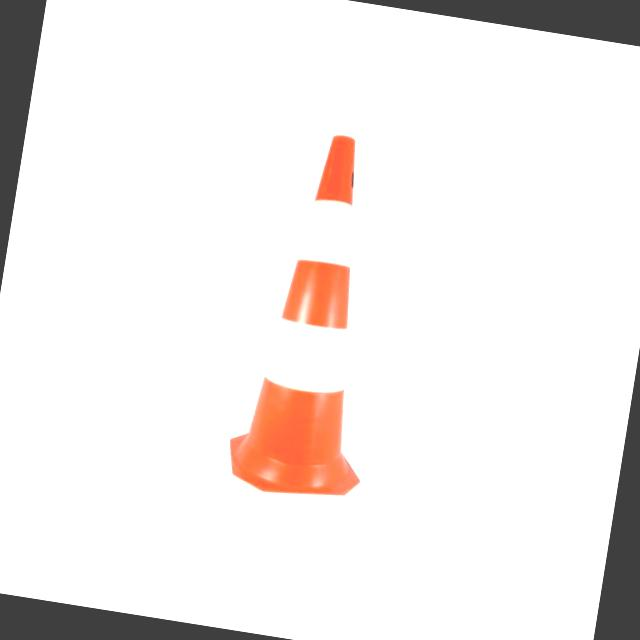cone: (216, 125, 418, 504)
